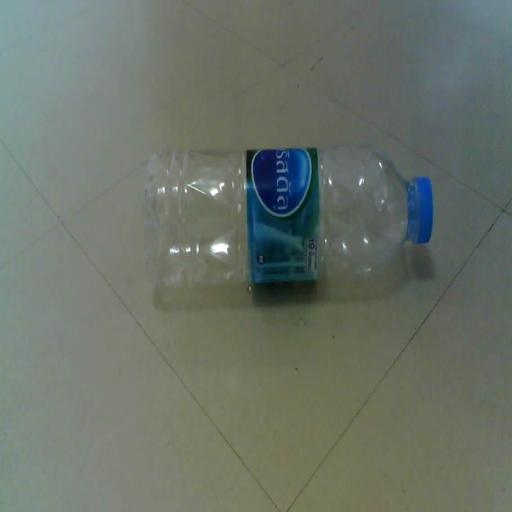bottle: (114, 116, 454, 322)
